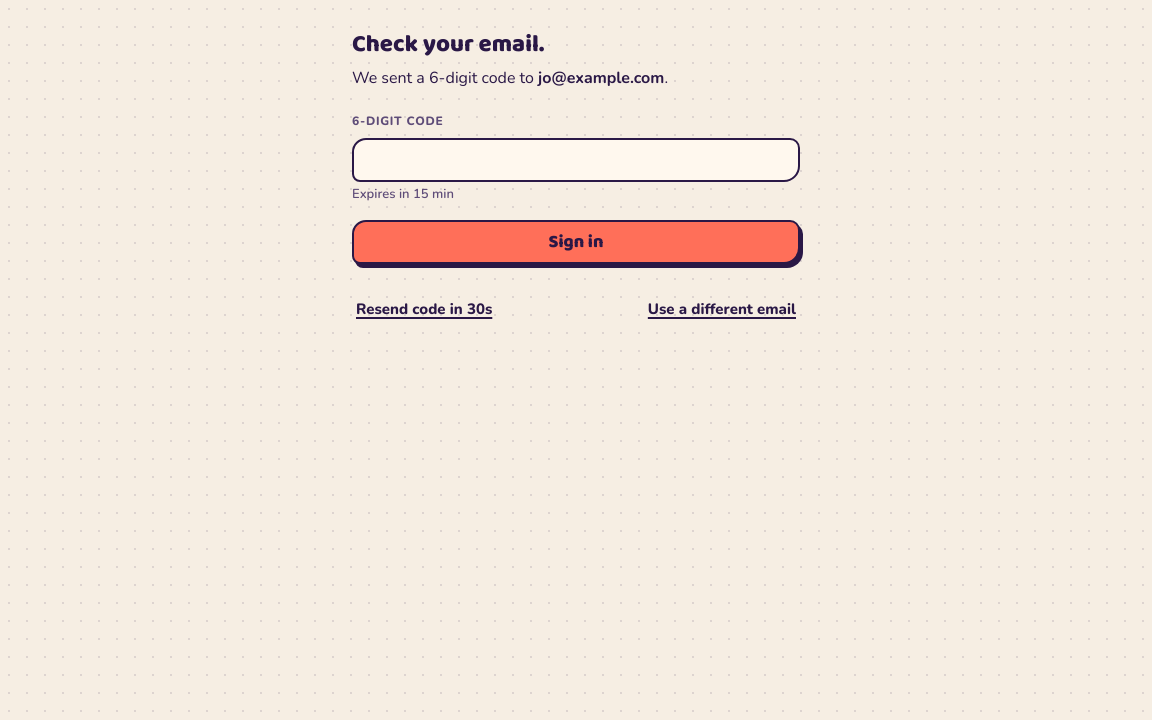
CodeScreen › a code rejected within 15 min reads "doesn't match"; the code is kept and focused
The width and height of the screenshot is (1152, 720).
Expected: the heading "Check your email." is shown, [352,25,544,64]
Type "111111" into the field labelled "6-digit code" at (576, 160), box [352,138,800,182]
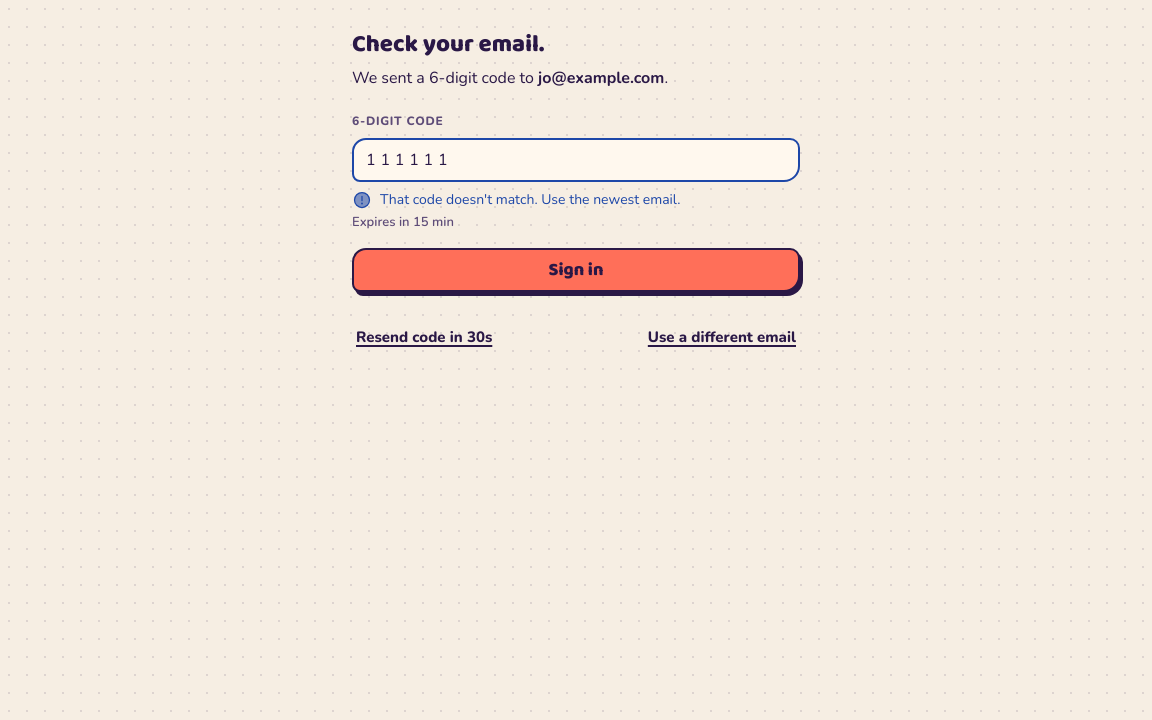
Expected: the message reads "That code doesn't match. Use the newest email.", [380,190,680,209]
Replace the text in the field labelled "6-digit code" with "11111" at (576, 160), box [352,138,800,182]
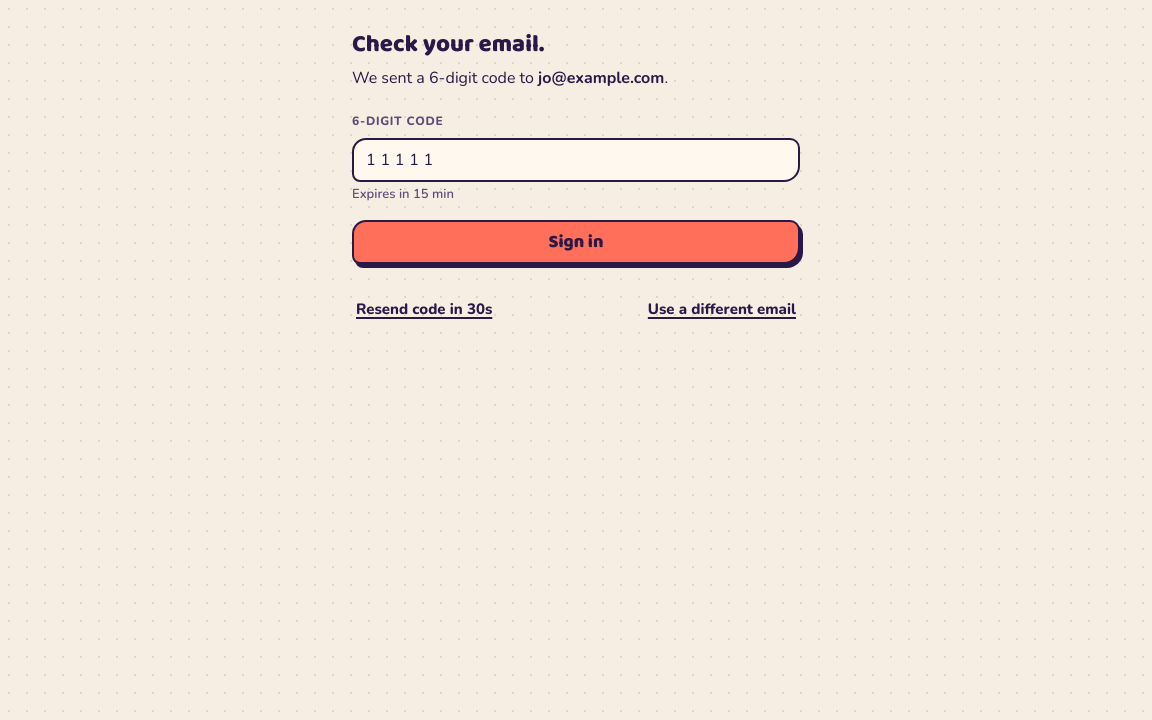
Expected: the message "That code doesn't match. Use the newest email." is gone
